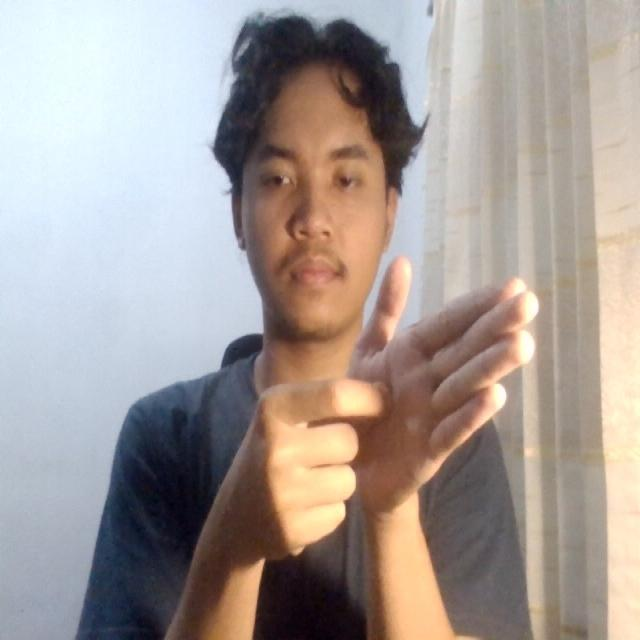L: (208, 229, 562, 576)
